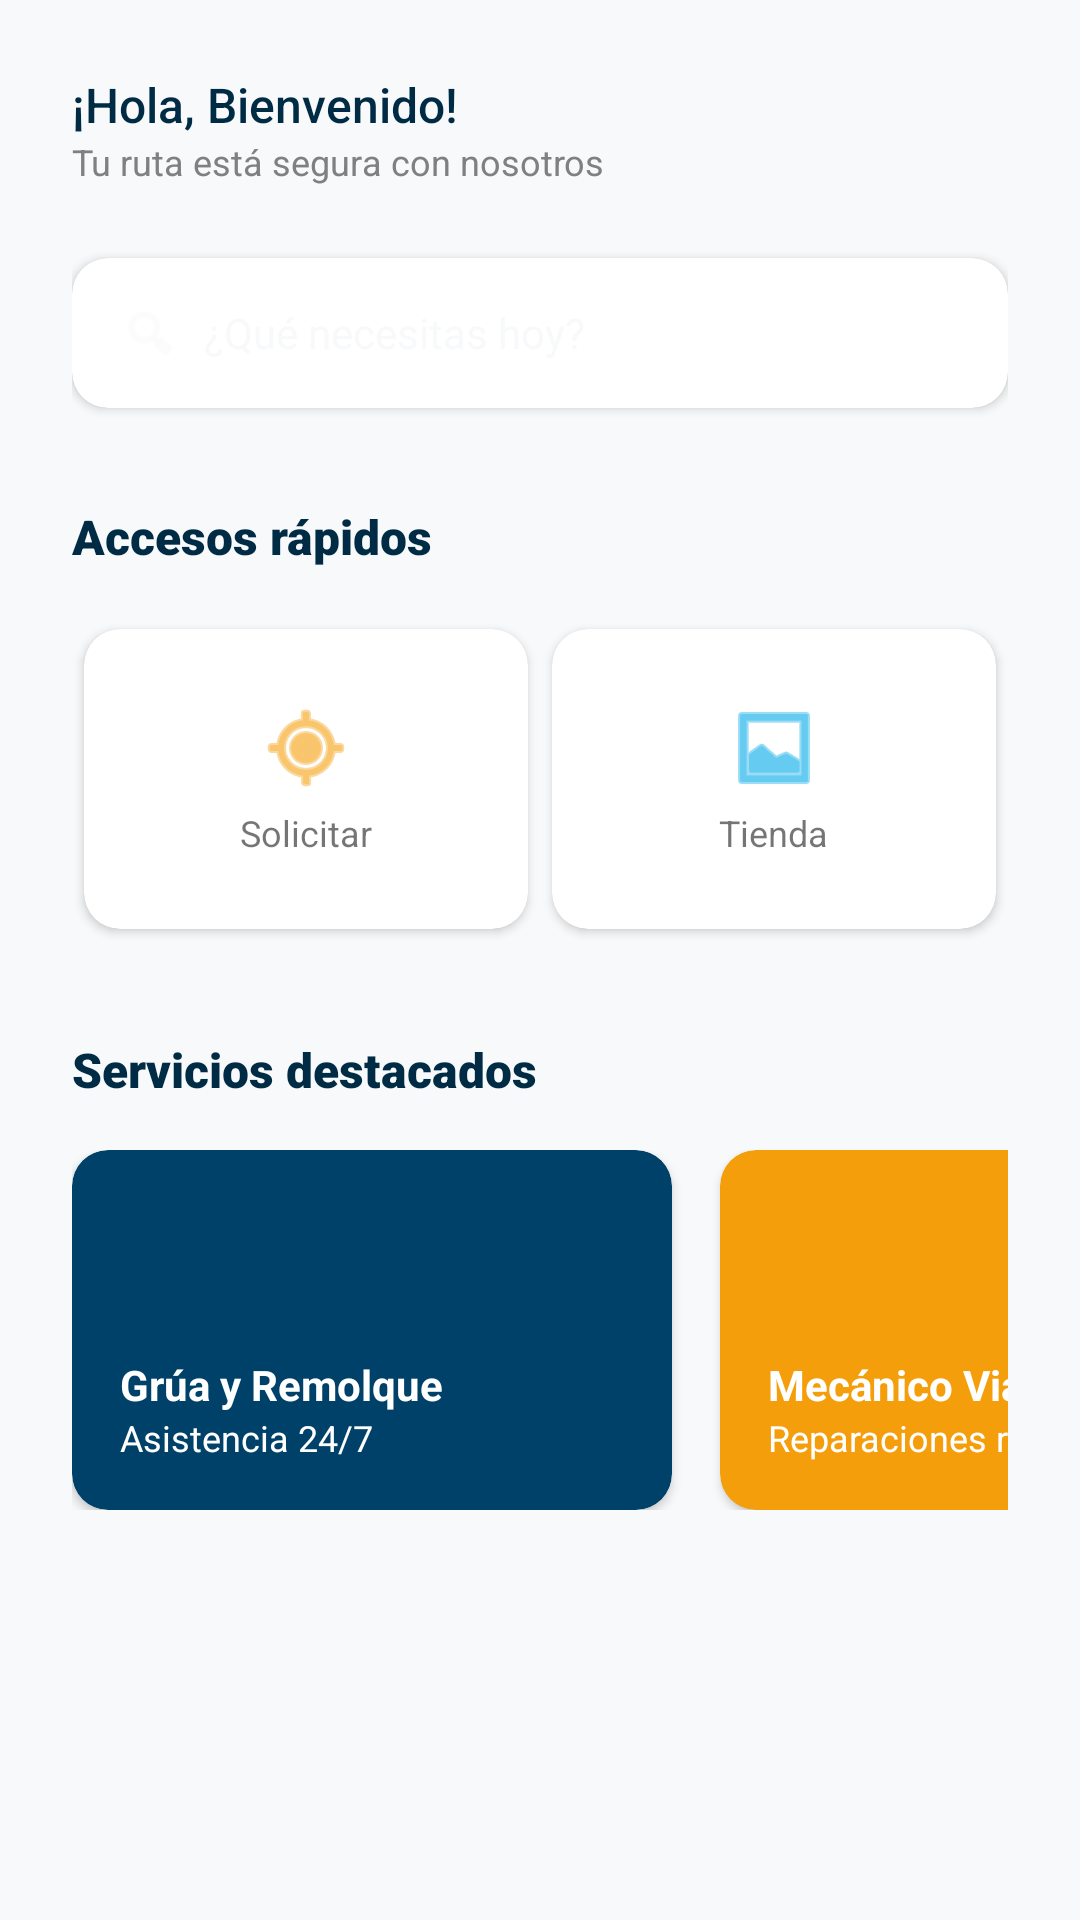

Screen size 1080 x 1920. Icon name, then its box in pixels as (x1, y1, x2, y2):
mylocation: (268, 710, 344, 786)
